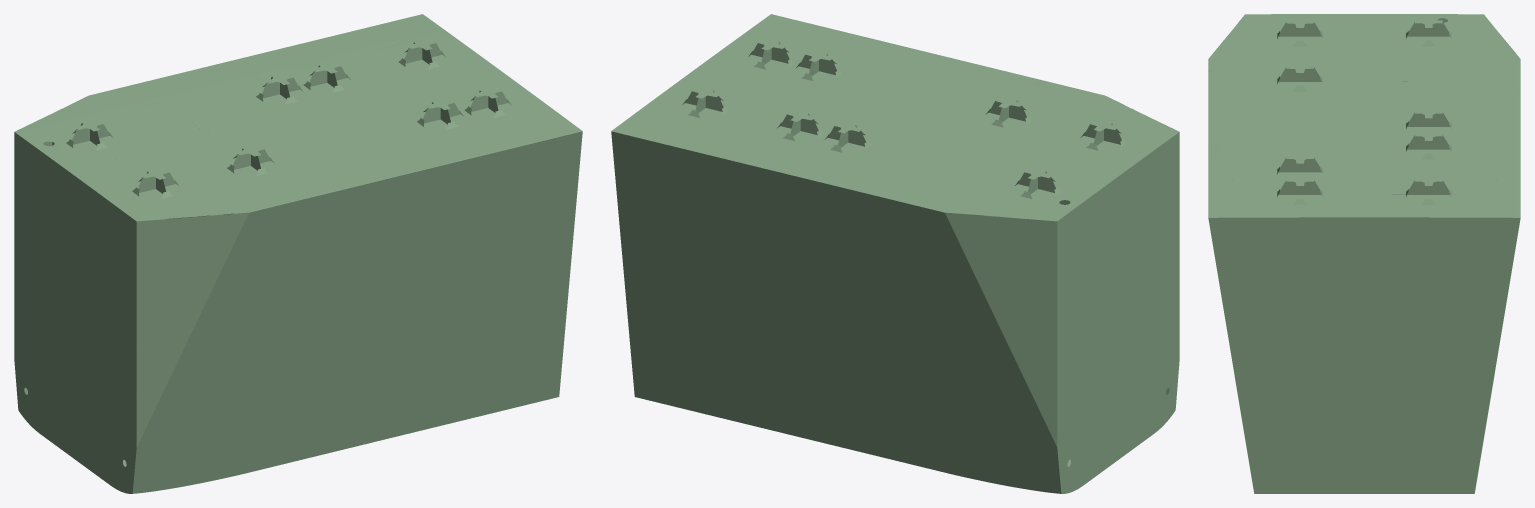
Rendered from NO_6_CENTRAL_CARGO_OIL_TK.glb.
The picture shows the model from 3 angles, left to right: view 1: azimuth 30°, elevation 25°; view 2: azimuth 150°, elevation 25°; view 3: azimuth 270°, elevation 25°; orthographic projection. The views are drawn at different scales.
Visible parts, largest first — view 1: PL_LBHDxNo6CenterTankS_044002-23_NVA32_1993, PL_LBHDxNo6CenterTankS_029004-17_NVA32_1993, PL_LBHDxNo6CenterTankS_036001-19.5_NVA36_1993, PL_LBHDxNo6CenterTankS_038002-20.5_NVA32_1993, PL_LBHDxNo6CenterTankS_020001-17.5_NVA32_1993, PL_LBHDxNo6CenterTankS_037004-20.5_NVA32_1993, PL_LBHDxNo6CenterTankS_027009-17_NVA32_1993, PL_LBHDxNo6CenterTankS_007004-15_NVA32_1993, PL_LBHDxNo6CenterTankS_028002-17_NVA32_1993, PL_LBHDxNo6CenterTankS_036005-19.5_NVA36_1993, PL_LBHDxNo6CenterTankS_009004-15_NVA32_1993, PL_TransBHDxBHD51S_003004-17_NVA32_1993 (+128 smaller); view 2: PL_LBHDxNo6CenterTankP_046002-23_NVA32_1993, PL_LBHDxNo6CenterTankP_028004-17_NVA32_1993, PL_LBHDxNo6CenterTankP_036001-19.5_NVA36_1993, PL_LBHDxNo6CenterTankP_037002-20.5_NVA32_1993, PL_LBHDxNo6CenterTankP_020001-17.5_NVA32_1993, PL_LBHDxNo6CenterTankP_038004-20.5_NVA32_1993, PL_LBHDxNo6CenterTankP_029009-17_NVA32_1993, PL_LBHDxNo6CenterTankP_008004-15_NVA32_1993, PL_LBHDxNo6CenterTankP_027002-17_NVA32_1993, PL_LBHDxNo6CenterTankP_036005-19.5_NVA36_1993, PL_LBHDxNo6CenterTankP_010004-15_NVA32_1993, PL_TransBHDxBHD51P_005003-17_NVA32_1993 (+129 smaller); view 3: PL_TransBHDxBHD60P_001001-19.5_NVA32_1993, PL_TransBHDxBHD60P_006001-14.5_NVA32_1993, PL_TransBHDxBHD60P_004001-17_NVA32_1993, PL_TransBHDxBHD60P_009001-13_NVA_1993, PL_TransBHDxBHD60S_009002-13_NVA_1993, PL_TransBHDxBHD60S_001002-19.5_NVA32_1993, PL_TransBHDxBHD60P_009002-13_NVA_1993, PL_TransBHDxBHD60S_009001-13_NVA_1993, PL_TransBHDxBHD60S_006002-14.5_NVA32_1993, PL_TransBHDxBHD60P_002001-18.5_NVA32_1993, PL_TransBHDxBHD60S_002002-18.5_NVA32_1993, PL_TransBHDxBHD60S_004002-17_NVA32_1993 (+129 smaller).
Boxes of the visible parts, x1,y1,x2,y2 form: PL_LBHDxNo6CenterTankS_044002-23_NVA32_1993: [158, 214, 233, 252]; PL_LBHDxNo6CenterTankS_029004-17_NVA32_1993: [258, 357, 317, 406]; PL_LBHDxNo6CenterTankS_036001-19.5_NVA36_1993: [481, 368, 544, 415]; PL_LBHDxNo6CenterTankS_038002-20.5_NVA32_1993: [150, 448, 215, 491]; PL_LBHDxNo6CenterTankS_020001-17.5_NVA32_1993: [484, 336, 547, 382]; PL_LBHDxNo6CenterTankS_037004-20.5_NVA32_1993: [252, 425, 311, 471]; PL_LBHDxNo6CenterTankS_027009-17_NVA32_1993: [401, 323, 455, 371]; PL_LBHDxNo6CenterTankS_007004-15_NVA32_1993: [264, 291, 323, 336]; PL_LBHDxNo6CenterTankS_028002-17_NVA32_1993: [168, 380, 221, 428]; PL_LBHDxNo6CenterTankS_036005-19.5_NVA36_1993: [395, 391, 449, 436]; PL_LBHDxNo6CenterTankS_009004-15_NVA32_1993: [407, 257, 461, 302]; PL_TransBHDxBHD51S_003004-17_NVA32_1993: [75, 352, 116, 420]; PL_LBHDxNo6CenterTankP_046002-23_NVA32_1993: [960, 214, 1035, 252]; PL_LBHDxNo6CenterTankP_028004-17_NVA32_1993: [876, 357, 935, 406]; PL_LBHDxNo6CenterTankP_036001-19.5_NVA36_1993: [649, 368, 712, 415]; PL_LBHDxNo6CenterTankP_037002-20.5_NVA32_1993: [978, 448, 1043, 491]; PL_LBHDxNo6CenterTankP_020001-17.5_NVA32_1993: [646, 336, 709, 382]; PL_LBHDxNo6CenterTankP_038004-20.5_NVA32_1993: [882, 425, 941, 471]; PL_LBHDxNo6CenterTankP_029009-17_NVA32_1993: [738, 323, 792, 371]; PL_LBHDxNo6CenterTankP_008004-15_NVA32_1993: [870, 291, 929, 336]; PL_LBHDxNo6CenterTankP_027002-17_NVA32_1993: [972, 380, 1025, 428]; PL_LBHDxNo6CenterTankP_036005-19.5_NVA36_1993: [744, 391, 798, 436]; PL_LBHDxNo6CenterTankP_010004-15_NVA32_1993: [732, 257, 786, 302]; PL_TransBHDxBHD51P_005003-17_NVA32_1993: [1077, 352, 1118, 420]; PL_TransBHDxBHD60P_001001-19.5_NVA32_1993: [1364, 459, 1444, 493]; PL_TransBHDxBHD60P_006001-14.5_NVA32_1993: [1364, 321, 1444, 353]; PL_TransBHDxBHD60P_004001-17_NVA32_1993: [1364, 388, 1444, 419]; PL_TransBHDxBHD60P_009001-13_NVA_1993: [1364, 217, 1444, 250]; PL_TransBHDxBHD60S_009002-13_NVA_1993: [1284, 217, 1364, 250]; PL_TransBHDxBHD60S_001002-19.5_NVA32_1993: [1284, 459, 1351, 493]; PL_TransBHDxBHD60P_009002-13_NVA_1993: [1445, 217, 1515, 250]; PL_TransBHDxBHD60S_009001-13_NVA_1993: [1213, 217, 1283, 250]; PL_TransBHDxBHD60S_006002-14.5_NVA32_1993: [1284, 321, 1351, 353]; PL_TransBHDxBHD60P_002001-18.5_NVA32_1993: [1379, 426, 1444, 458]; PL_TransBHDxBHD60S_002002-18.5_NVA32_1993: [1284, 426, 1349, 458]; PL_TransBHDxBHD60S_004002-17_NVA32_1993: [1284, 388, 1351, 419].
Bounding box in the file's own units: 47.16 × 31.5 × 30.6.
